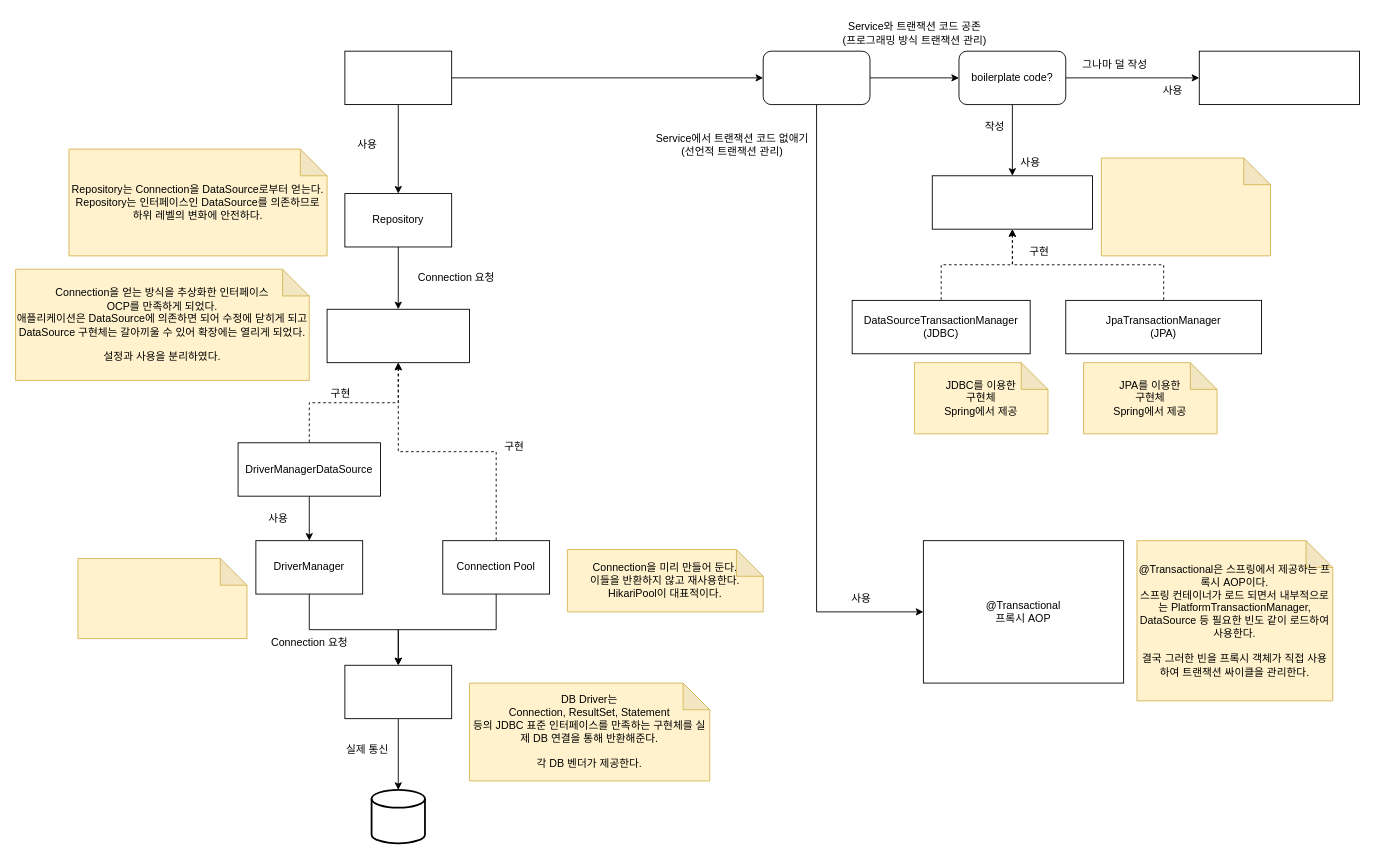
The diagram is 1375 pixels wide and 859 high, and some of its shapes have lost their labels. The shapes that lost their labels are listed below. From the top down, each one's box as (x1, y1, x2, y2) in pixels, then its label:
(344, 50, 452, 105): Service
(762, 50, 870, 105): 트랜잭션 다루는 방법
(1198, 50, 1359, 105): TransactionTemplate
(931, 175, 1092, 229): <<interface>> PlatformTransactionManager
(1100, 157, 1270, 256): 트랜잭션 인터페이스 Spring에서 제공 getTransaction() commit() rollback() 정의
(326, 308, 469, 363): <<interface>> javax.sql.DataSource
(77, 558, 247, 639): 디텍트 된 DB Driver에게 Connection을 요청한다.
(344, 664, 452, 719): JDBC DB Driver
